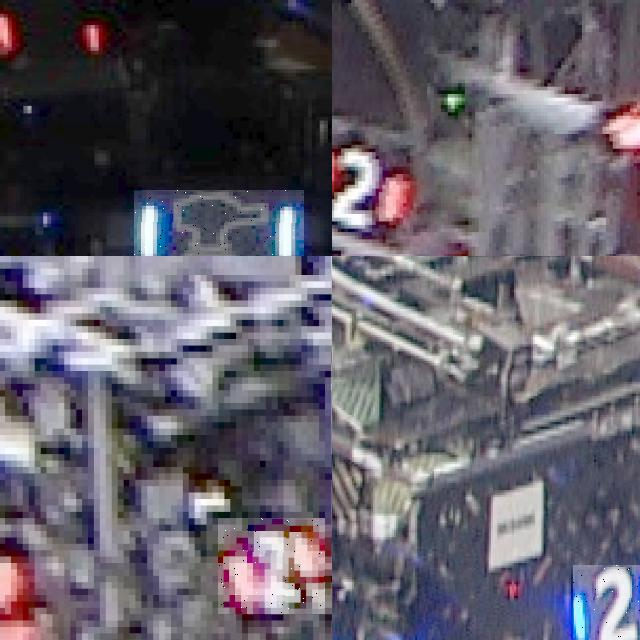B2: (573, 565, 640, 640)
Bs: (134, 190, 304, 256)
R2: (218, 518, 325, 614), (332, 144, 406, 228), (0, 512, 28, 627)
